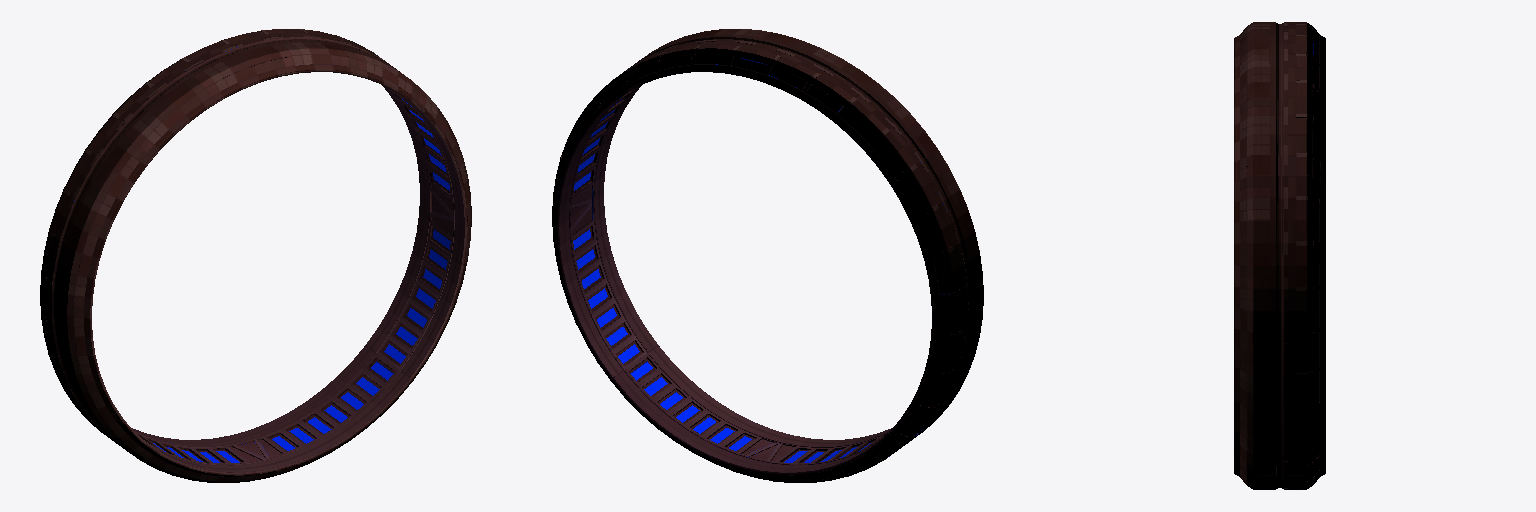
3 renders of one model, left to right at view 1: azimuth 30°, elevation 25°; view 2: azimuth 150°, elevation 25°; view 3: azimuth 270°, elevation 25°, orthographic.
Visible parts, largest first — view 1: Cylinder.004; view 2: Cylinder.004; view 3: Cylinder.004.
Boxes of the visible parts, x1,y1,x2,y2 form: Cylinder.004: [40, 29, 471, 482]; Cylinder.004: [552, 29, 983, 482]; Cylinder.004: [1234, 22, 1325, 489].
Bounding box in the file's own units: 2.33 × 2.33 × 0.4566.
Materials: 1 (1 with a texture image).